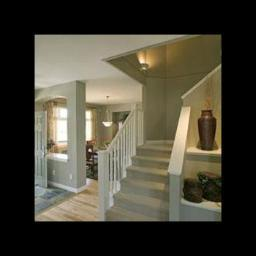Escaleras: (105, 98, 187, 220)
